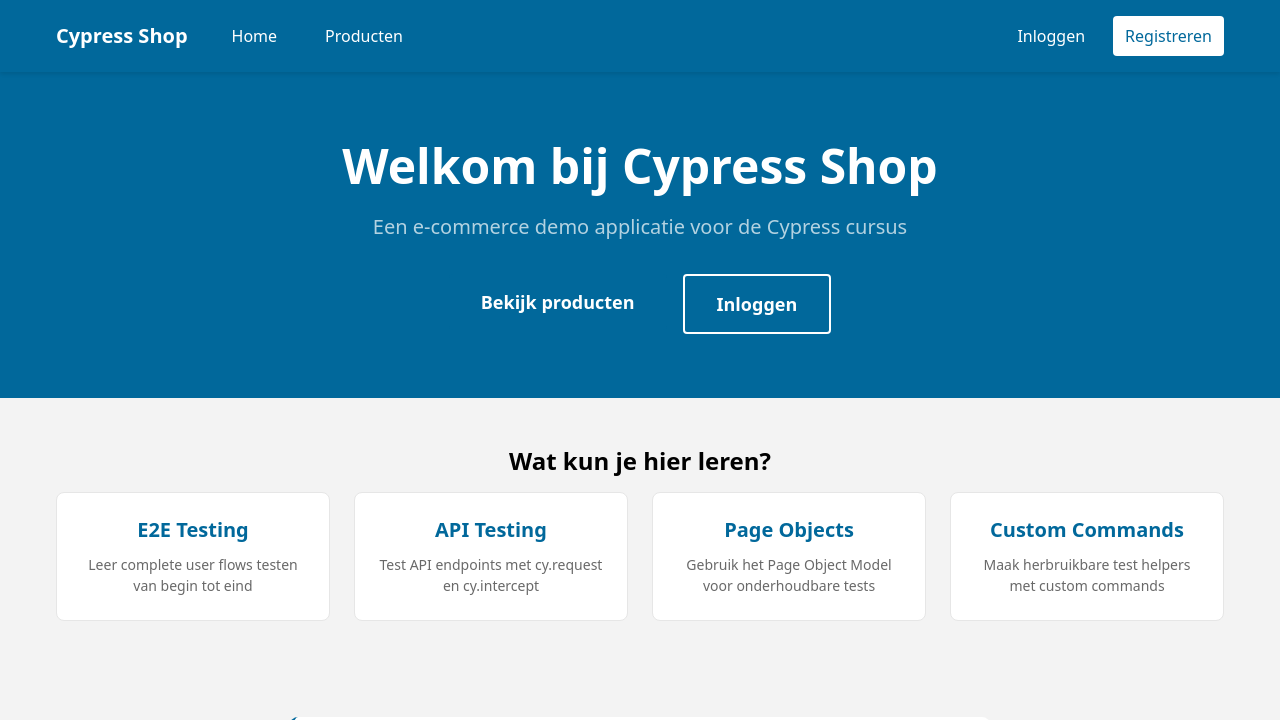
Opdracht 2: Navigatie & Assertions › should navigate to login page
Click the link with test id "nav-login" at [1051, 36], box [1017,25,1085,47]
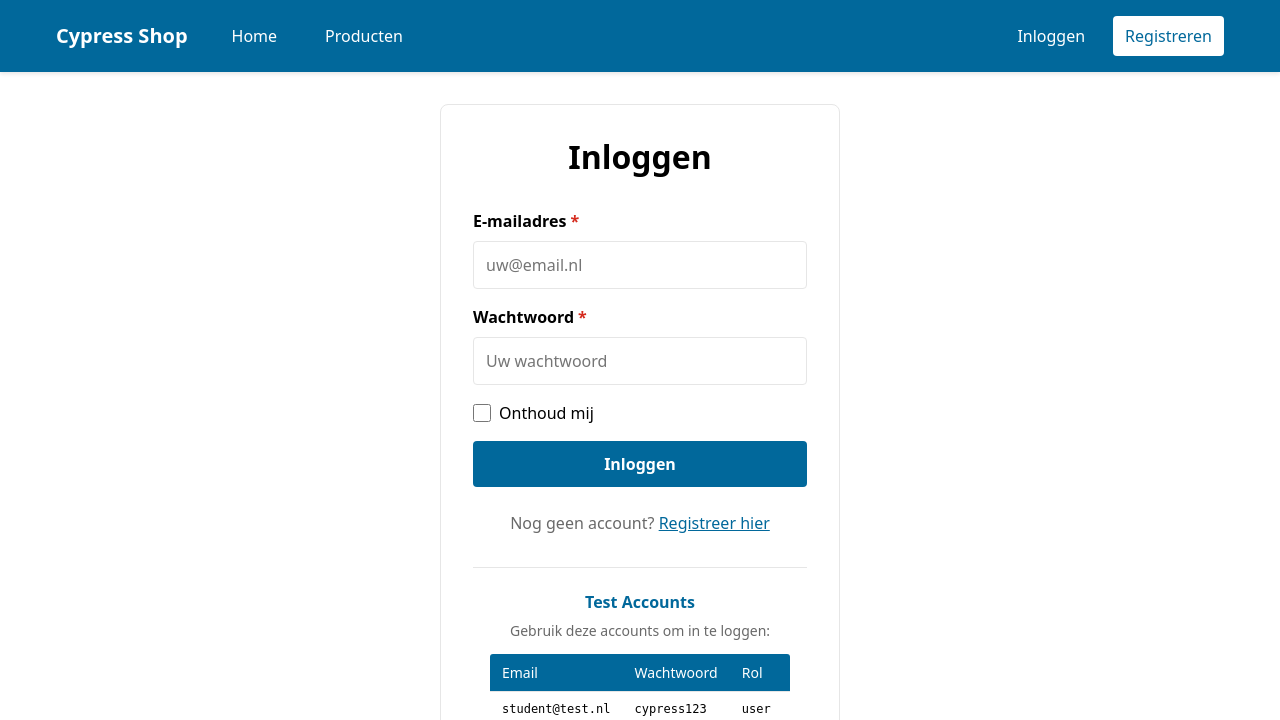
Now the form with test id "login-form" is shown, box [440,104,840,719]
Now the field with test id "username" is shown, box [473,241,807,289]
Now the password field with test id "password" is shown, box [473,337,807,385]
